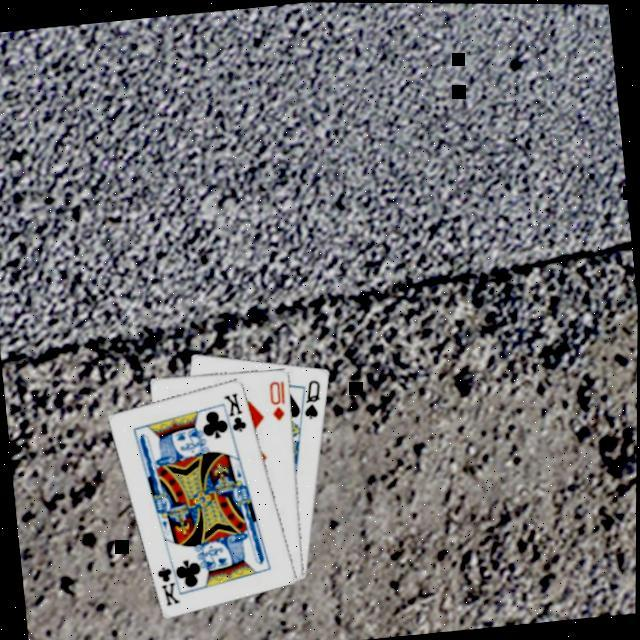10D: (267, 378, 292, 424)
KC: (154, 556, 188, 610), (218, 390, 252, 442)
QS: (300, 378, 328, 423)
